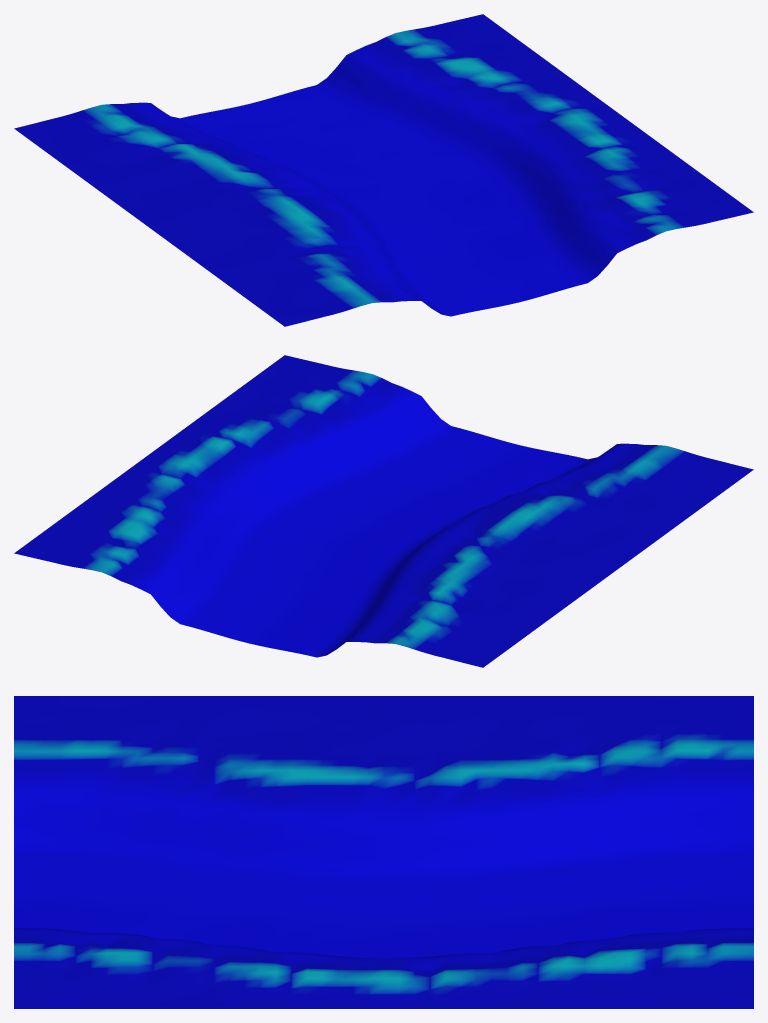
The model's file is channel_straight_a.glb.
The picture shows the model from 3 angles, top to bottom: view 1: azimuth 30°, elevation 25°; view 2: azimuth 150°, elevation 25°; view 3: azimuth 270°, elevation 25°; orthographic projection. The views are drawn at different scales.
Visible parts, largest first — view 1: channel_straight_a; view 2: channel_straight_a; view 3: channel_straight_a.
Boxes of the visible parts, left/top/right/bottom form: channel_straight_a: left=14, top=14, right=753, bottom=326; channel_straight_a: left=14, top=355, right=753, bottom=667; channel_straight_a: left=14, top=696, right=753, bottom=1008.
Size of what is drawn, in the model's own units: 24 by 1.77 by 24.
